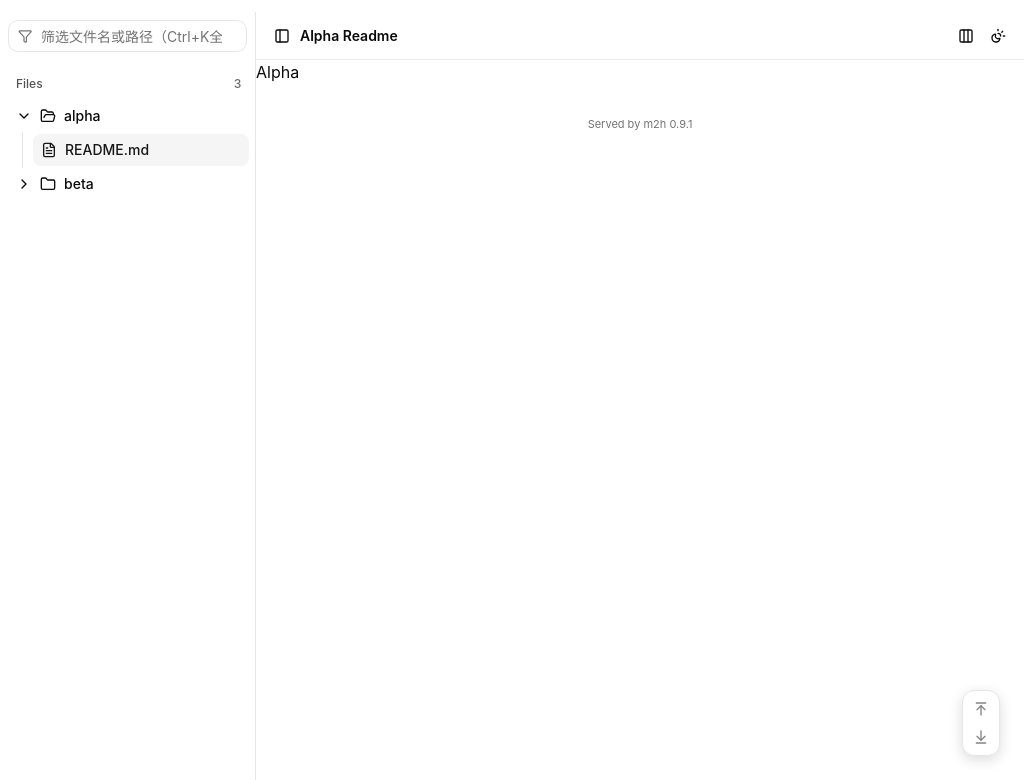
Test: App directory preview › groups a multi-root workspace into labeled root trees, expanding only the selected root
Expected: the heading "Alpha" is shown, [256, 62, 299, 82]
Click the button "beta": (129, 184) [8, 168, 249, 200]
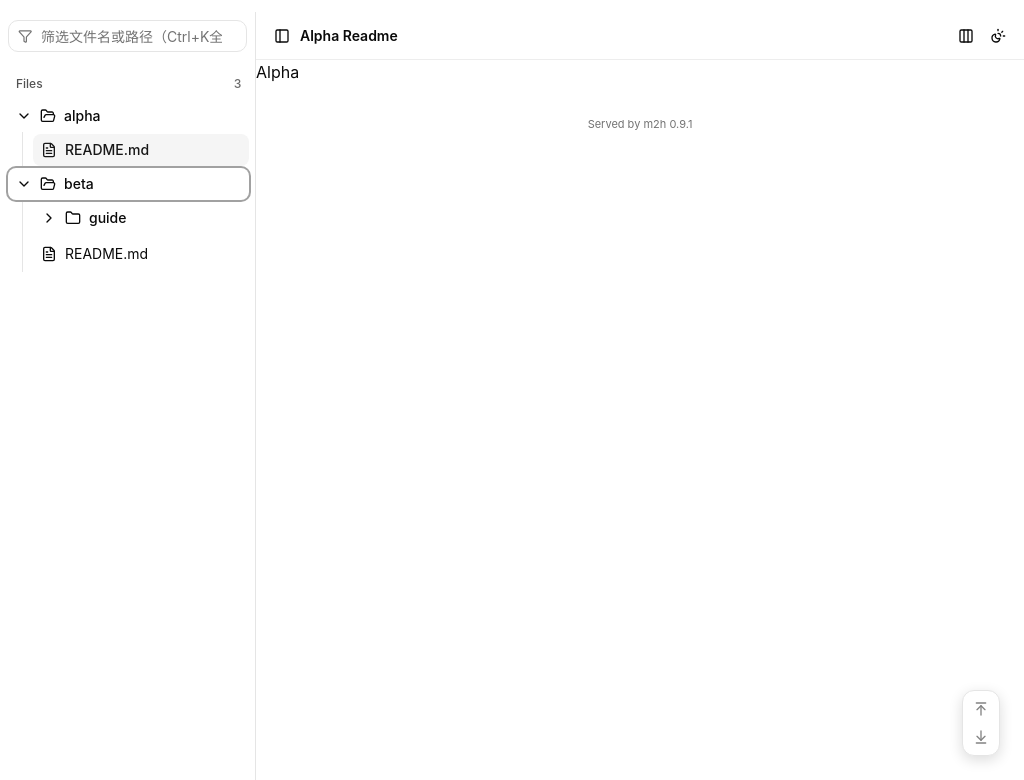
Click the button with aria-label "README.md，r1/README.md": (141, 254) [33, 238, 249, 270]
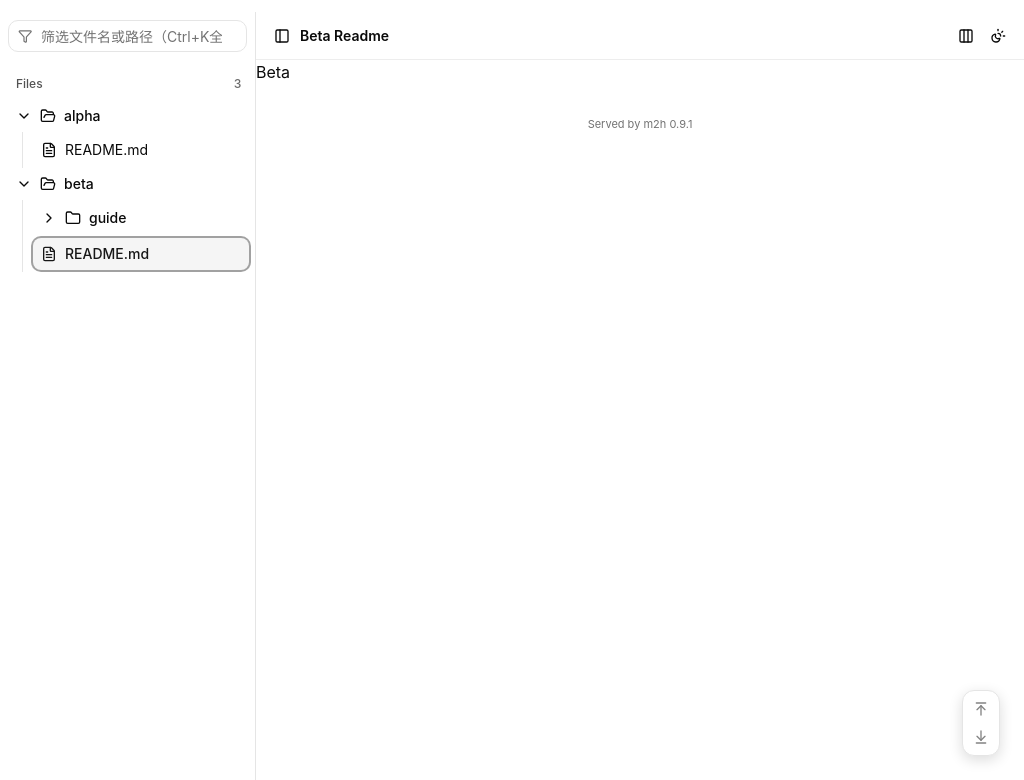
Expected: the heading "Beta" is shown, [256, 62, 290, 82]
In the search field named "按文件名或路径筛选文件": (128, 36) [8, 20, 247, 52], type "beta"
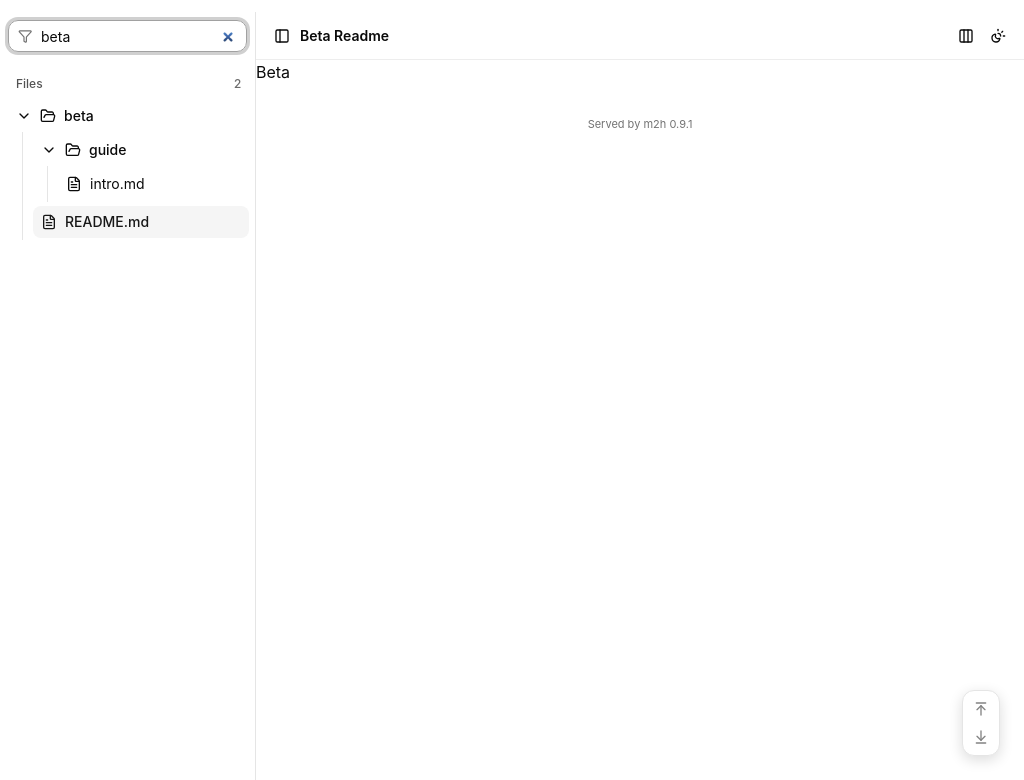
Expected: the button with aria-label "README.md，r1/README.md" is shown, [33, 206, 249, 238]
Expected: the button with aria-label "intro.md，r1/guide/intro.md" is shown, [58, 168, 249, 200]
Note: A query matching neither root nor document leaves the empty state.
Replace the text in the search field named "按文件名或路径筛选文件" with "missing": (128, 36) [8, 20, 247, 52]
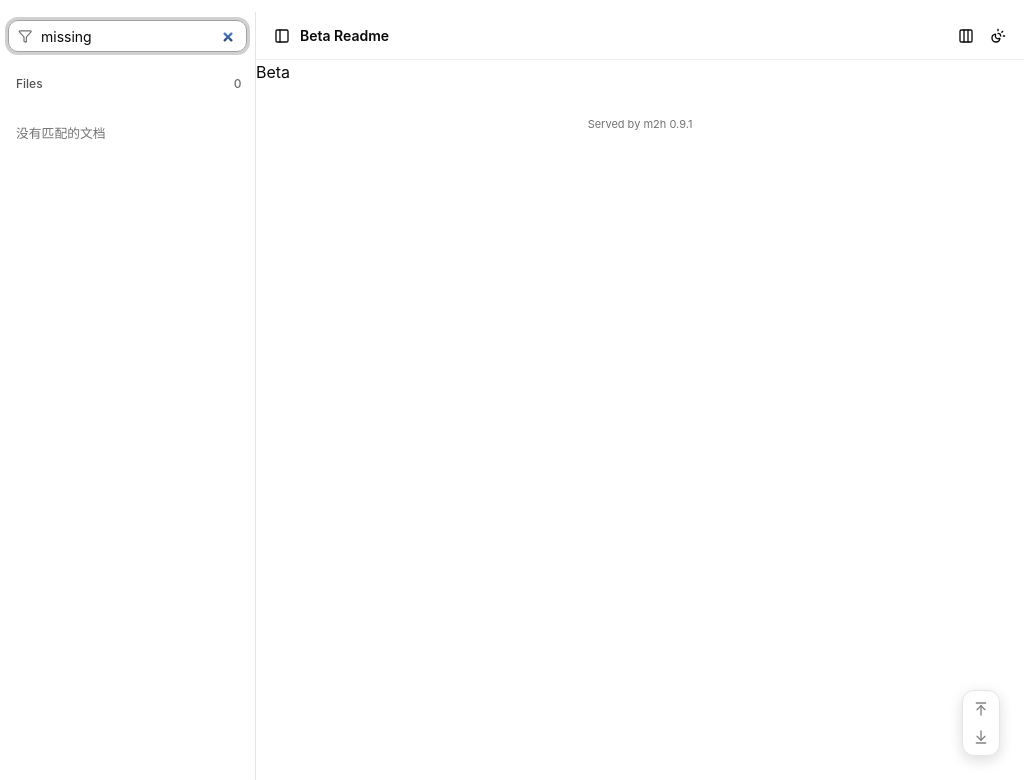
Expected: the text "没有匹配的文档" is shown, [16, 126, 106, 141]
